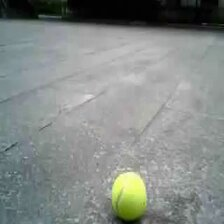tennis: (113, 172, 148, 218)
